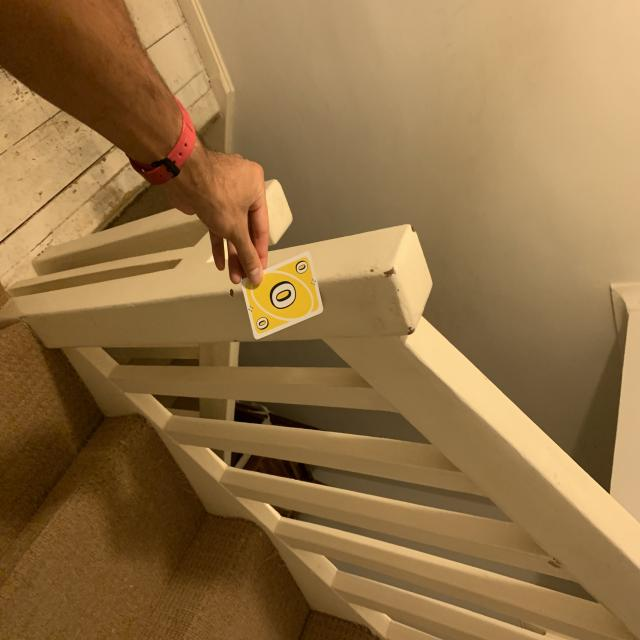lyellow-0: (293, 259, 310, 275)
